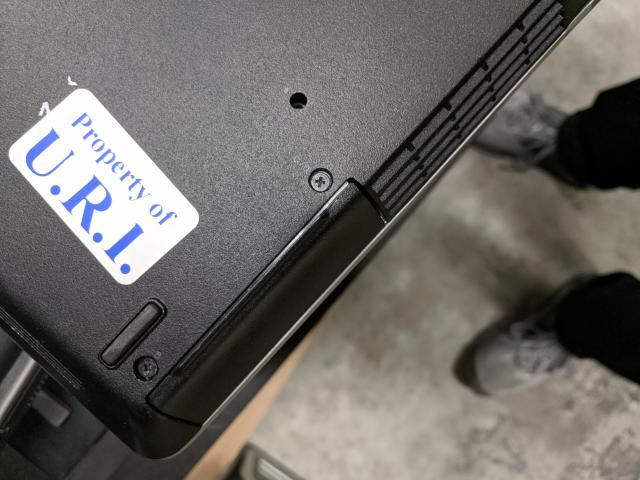CRS: (309, 167, 333, 193), (132, 357, 158, 380)
